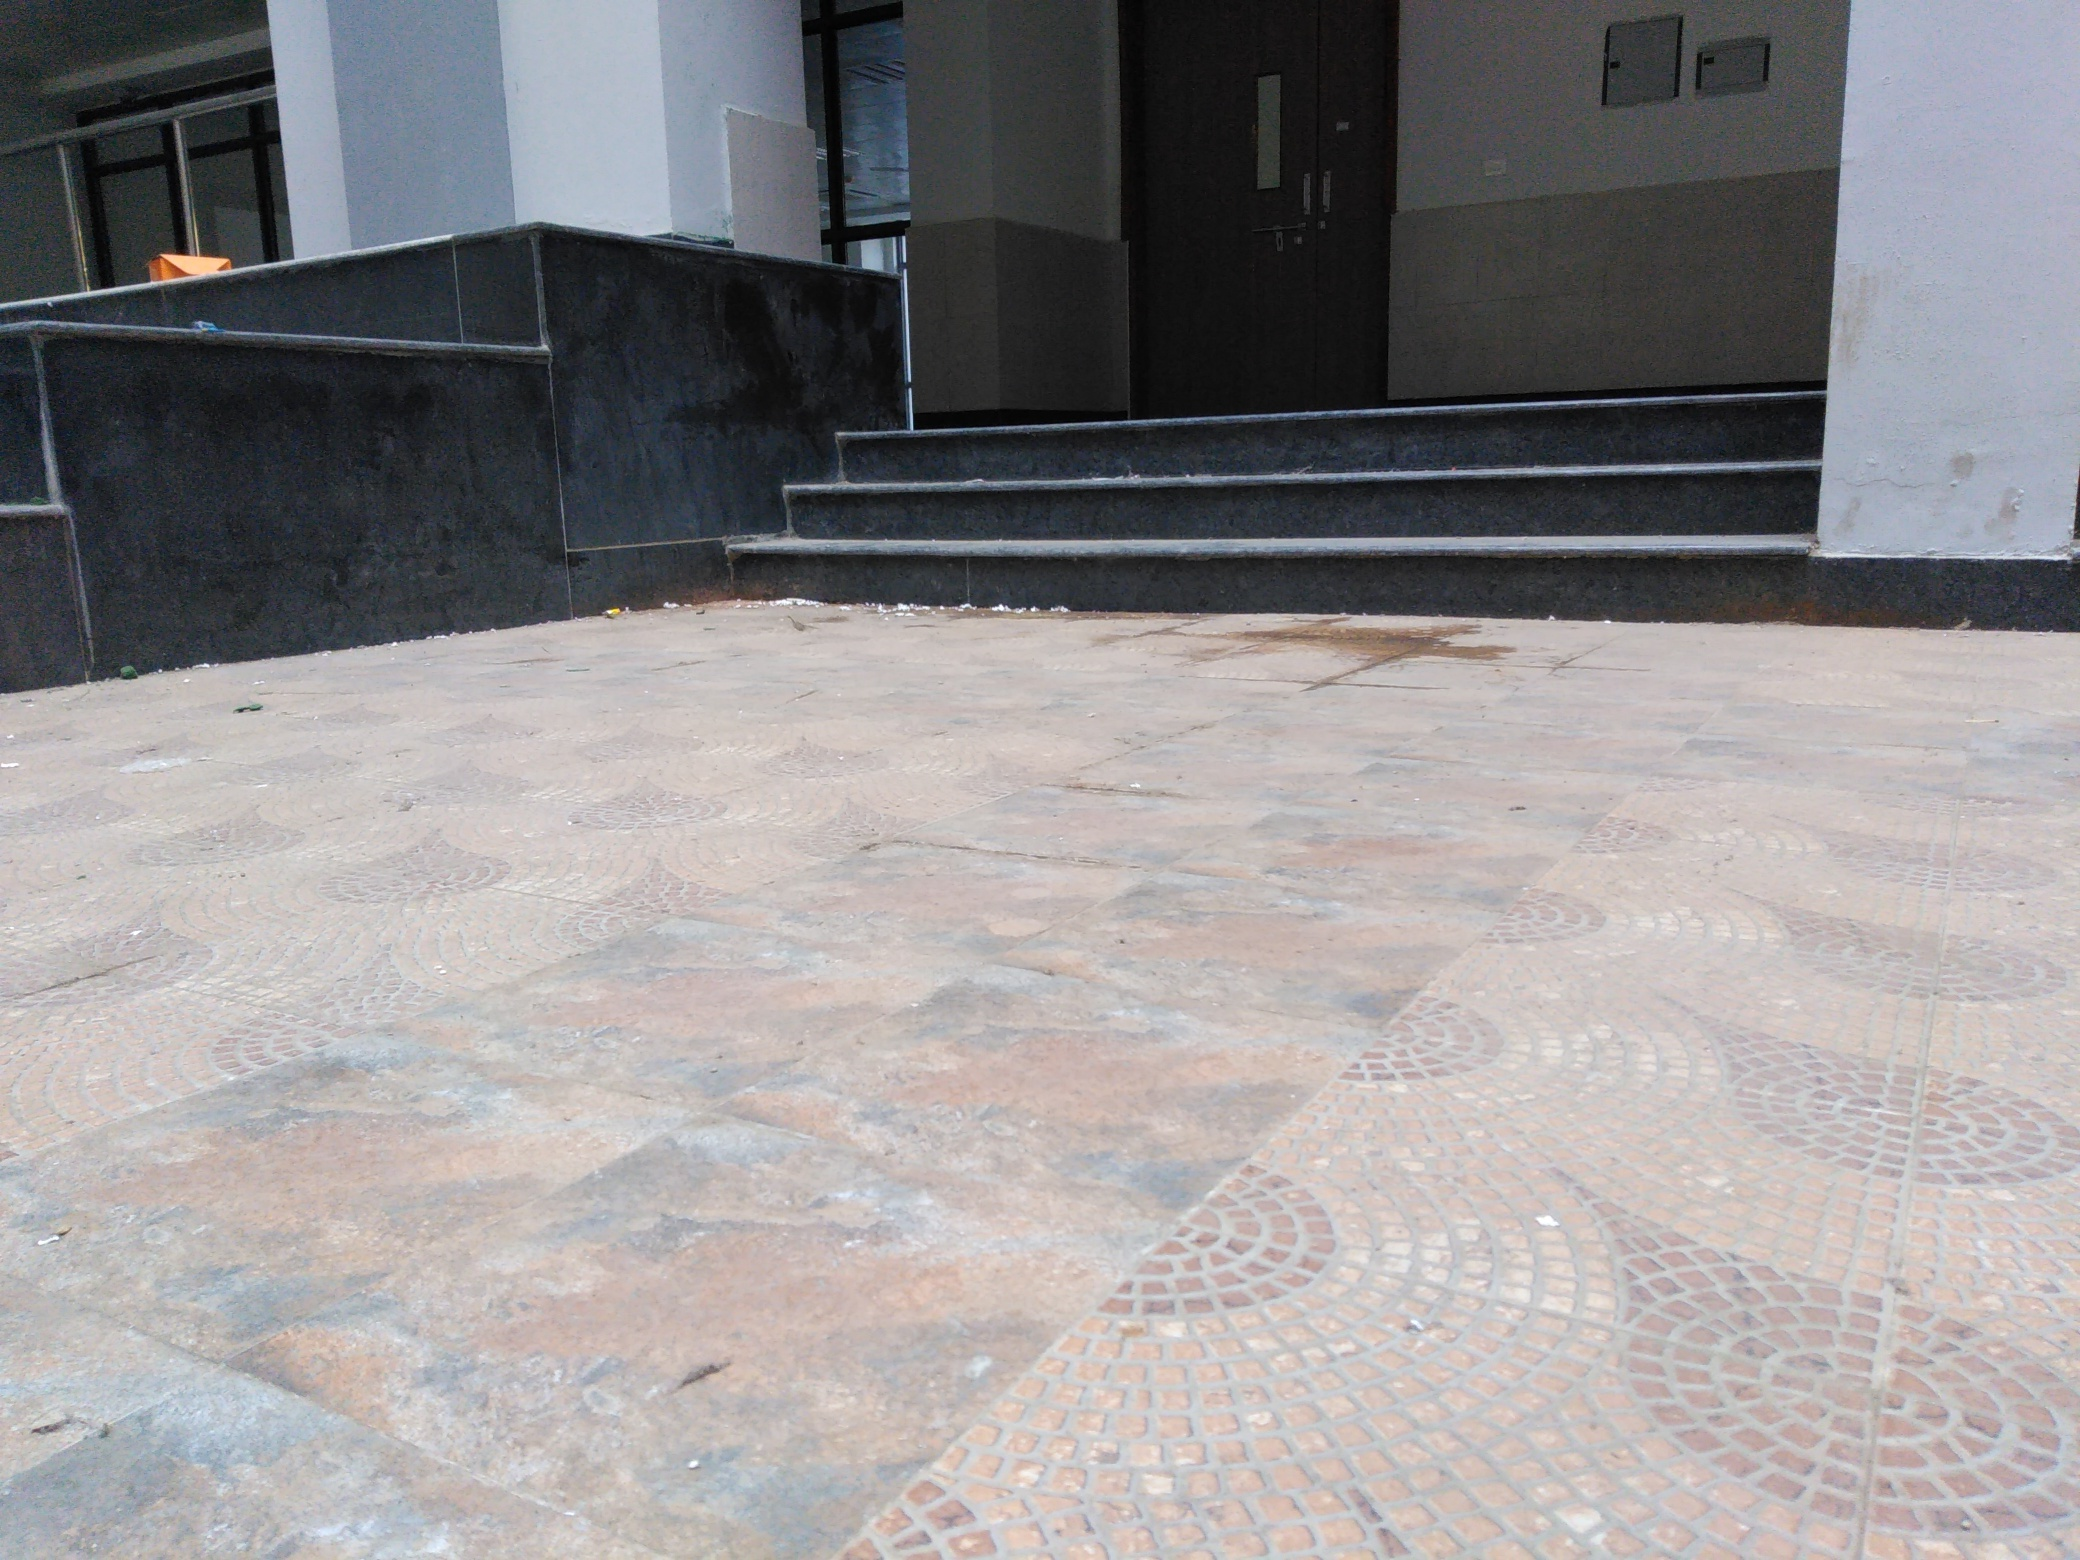stairs_up: (740, 374, 1815, 611)
